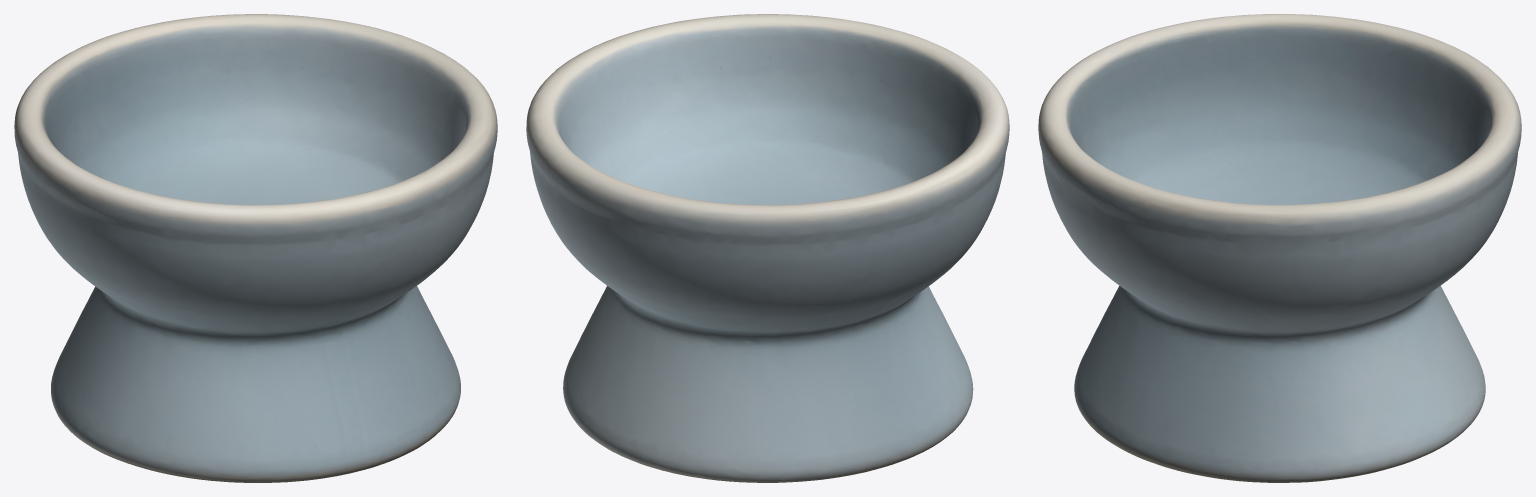
Rendered from tripo_convert_3c835fdb-e318-4850-929c-48af75683081.fbx.
3 renders of one model, left to right at view 1: azimuth 30°, elevation 25°; view 2: azimuth 150°, elevation 25°; view 3: azimuth 270°, elevation 25°, orthographic.
Parts seen in each view (by area): view 1: tripo_node_3c835fdb; view 2: tripo_node_3c835fdb; view 3: tripo_node_3c835fdb.
Boxes of the visible parts, bbox=[...] form: tripo_node_3c835fdb: bbox=[14, 14, 497, 482]; tripo_node_3c835fdb: bbox=[526, 14, 1009, 482]; tripo_node_3c835fdb: bbox=[1038, 14, 1521, 482].
Bounding box in the file's own units: 0.9796 × 0.6482 × 0.9803.
1 material, 1 textured.
